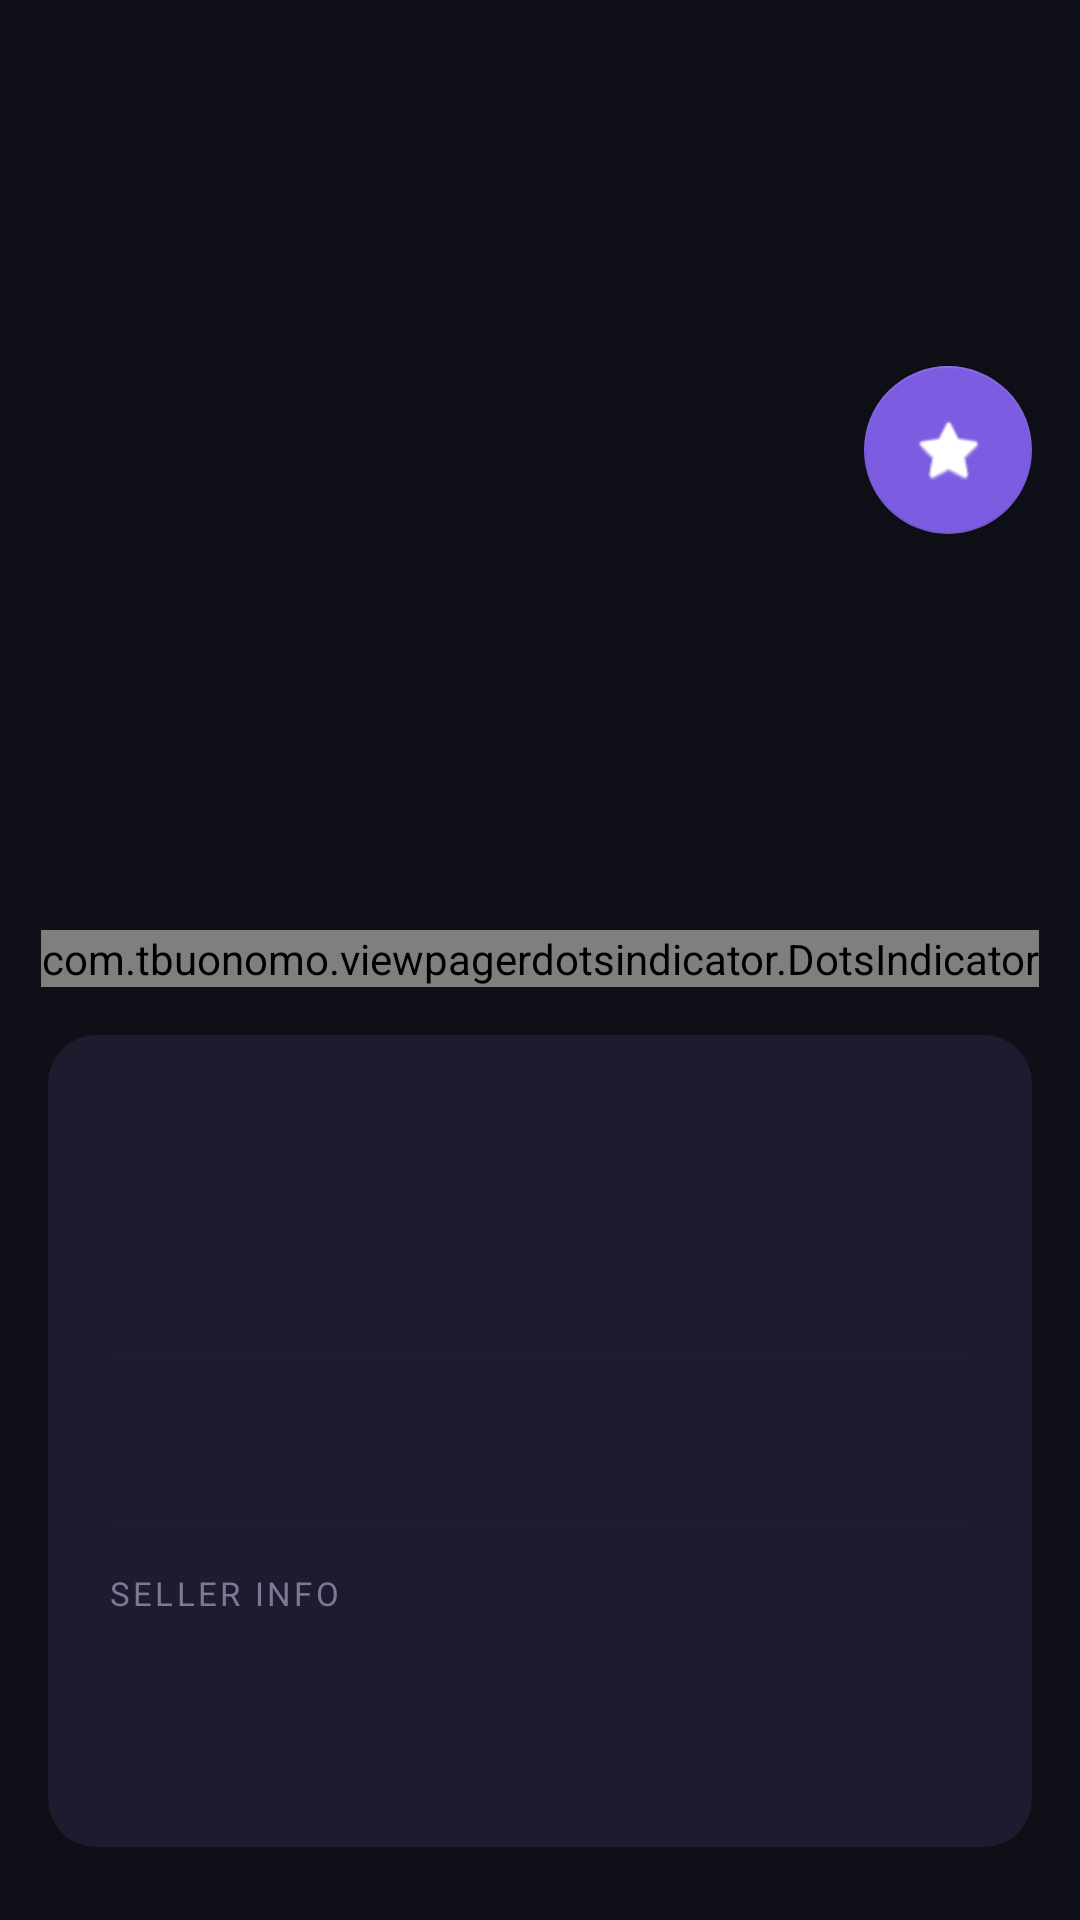

Icon click points for this 1080w x 1920h phone screenshot, format (x,y):
Add to Favorites: (948,450)
